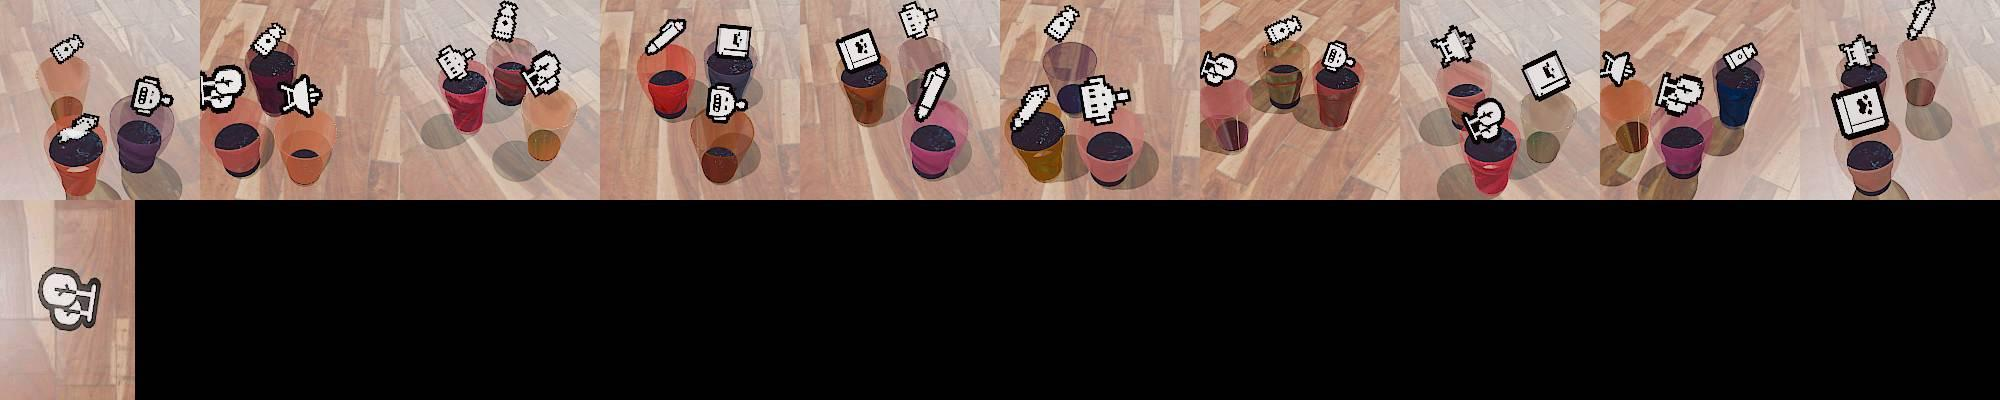icon: (36, 265, 101, 332), (1830, 83, 1890, 140), (1074, 74, 1131, 125), (1520, 48, 1573, 101), (912, 60, 952, 121), (1653, 70, 1705, 116), (199, 65, 245, 113), (1463, 96, 1508, 144), (276, 73, 321, 118), (835, 28, 881, 73), (1432, 24, 1477, 68), (129, 75, 175, 117), (524, 50, 562, 98), (1013, 83, 1051, 130), (898, 1, 939, 41), (644, 18, 686, 56), (704, 83, 744, 122), (436, 45, 476, 83), (1838, 33, 1879, 70), (249, 20, 287, 59), (714, 23, 753, 61), (55, 112, 99, 144), (1200, 50, 1237, 88), (1599, 50, 1635, 88), (1263, 13, 1304, 46), (1043, 5, 1079, 42), (1719, 42, 1759, 74), (491, 0, 519, 45), (1904, 0, 1935, 41), (1319, 39, 1353, 74), (50, 33, 85, 65)
